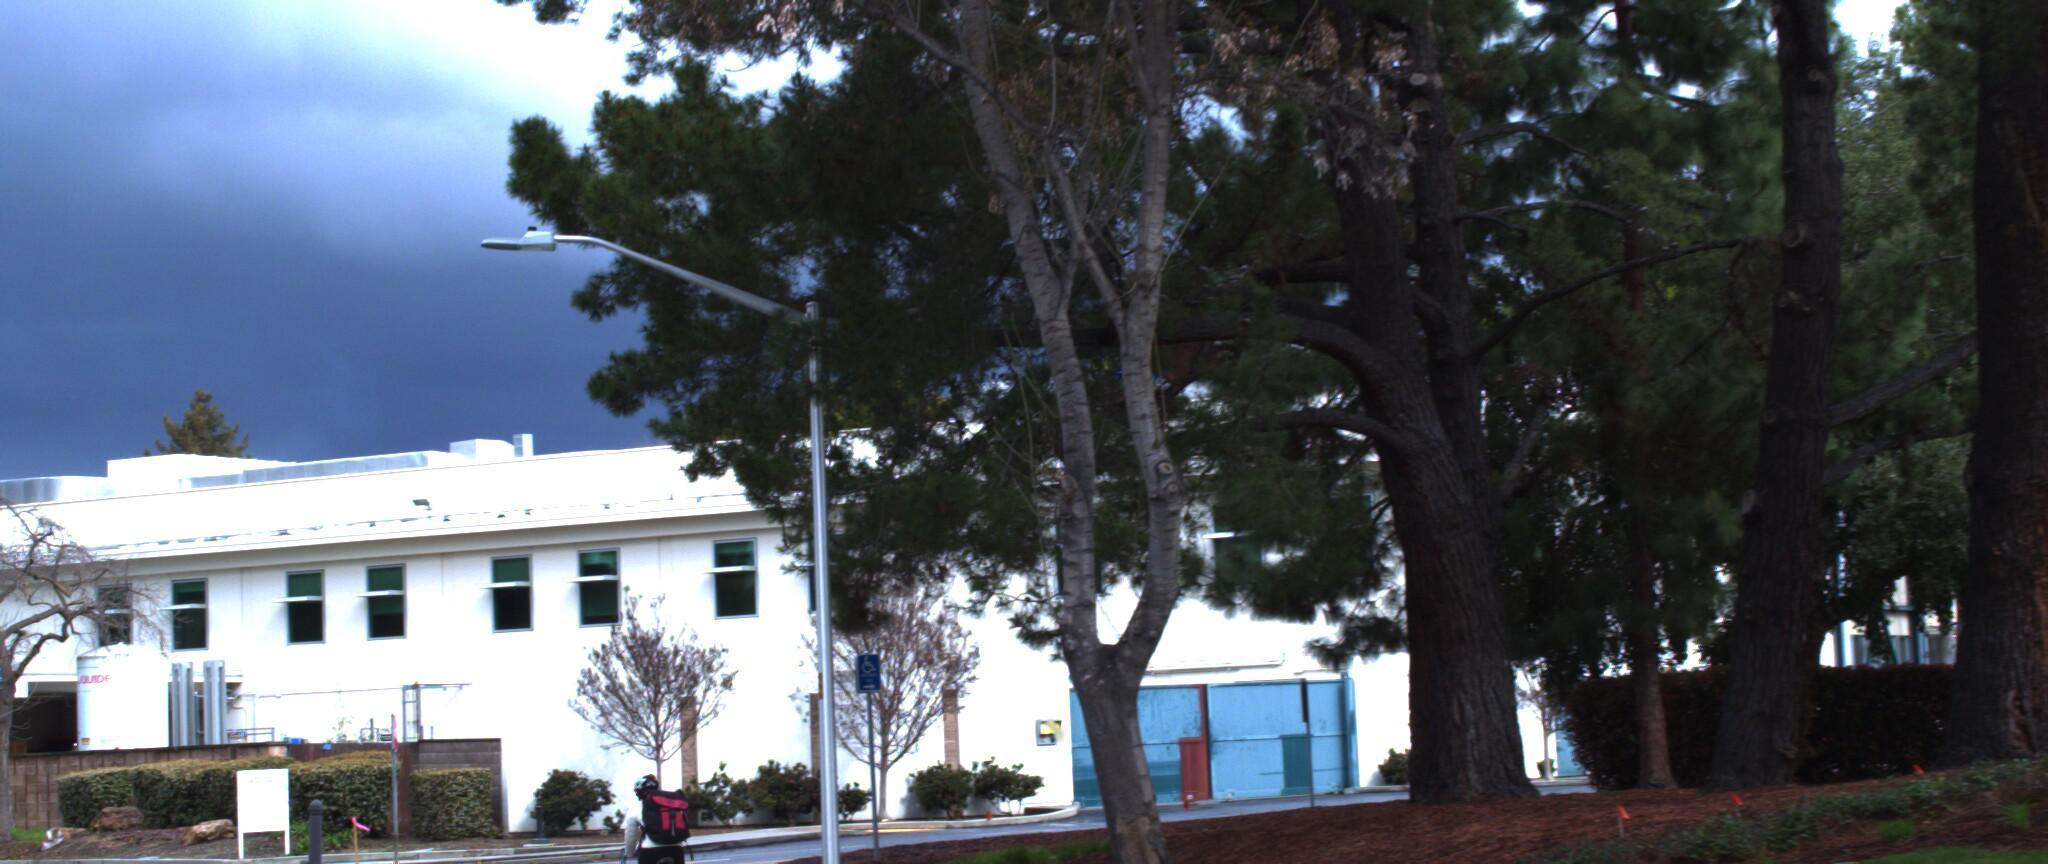bicycle: (583, 770, 730, 864)
